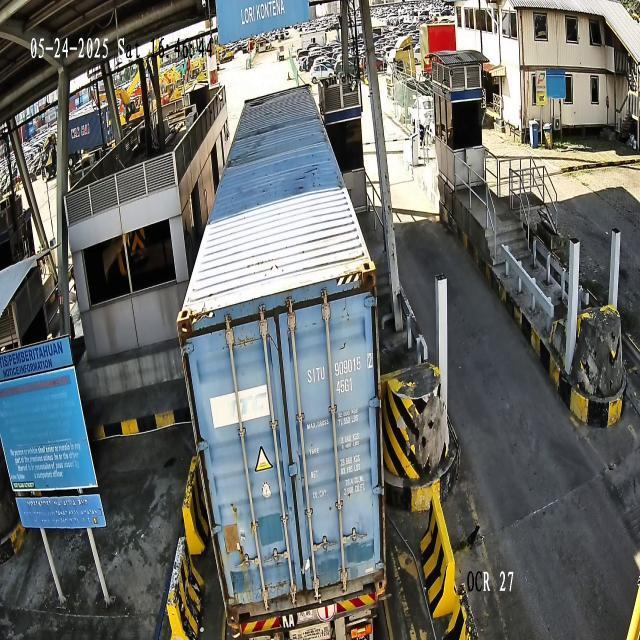ISO: (336, 377, 353, 395)
container_number: (307, 353, 373, 385)
